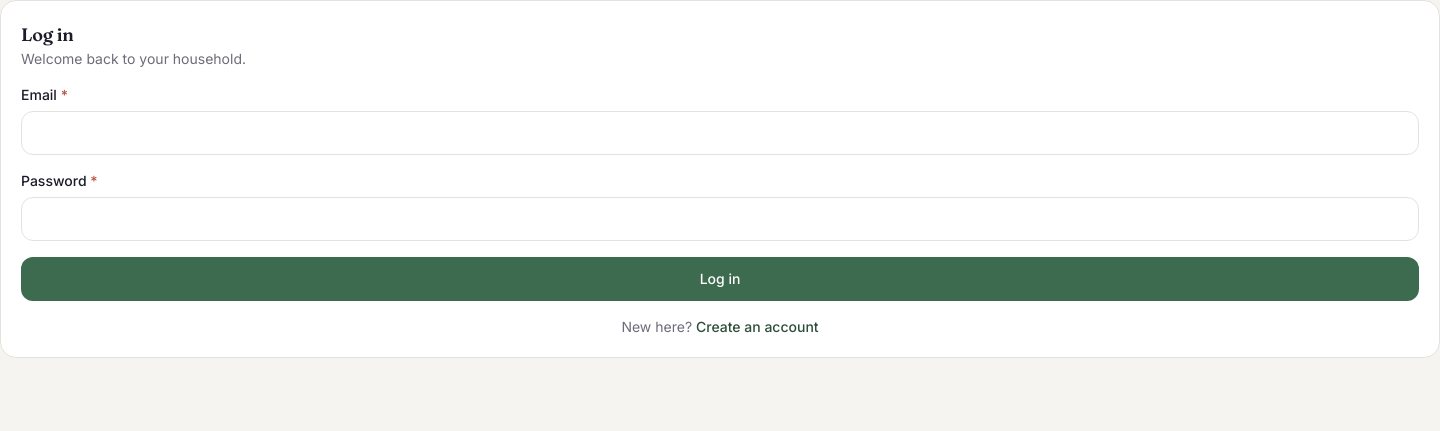
Test case: LoginPage › displays API error message when login fails
Type "test@example.com" into the field labelled "Email *" at (720, 133), box [21,111,1419,155]
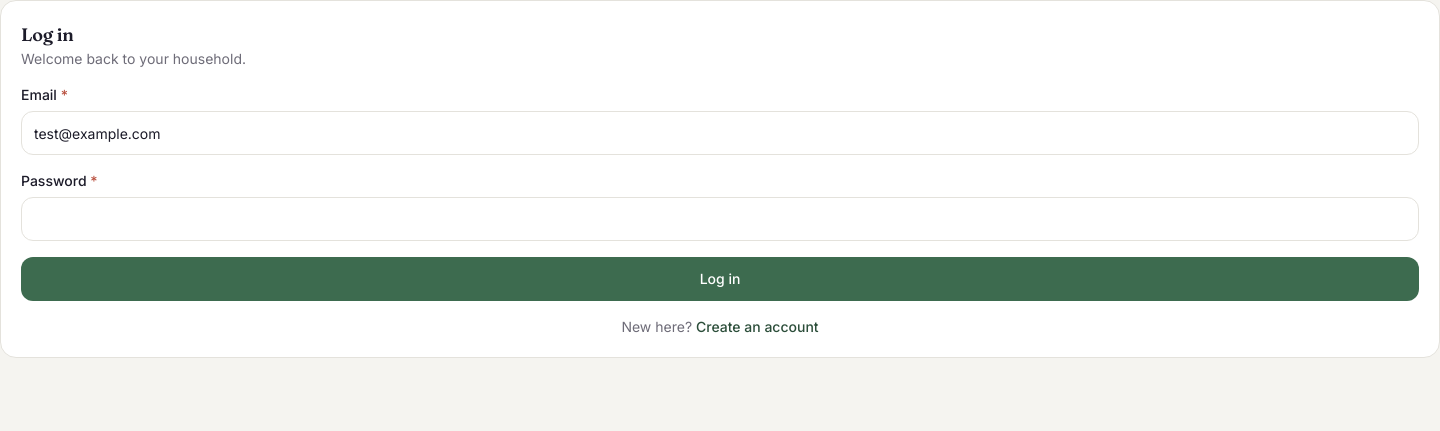
Type "wrongpassword" into the password field labelled "Password *" at (720, 219), box [21,197,1419,241]
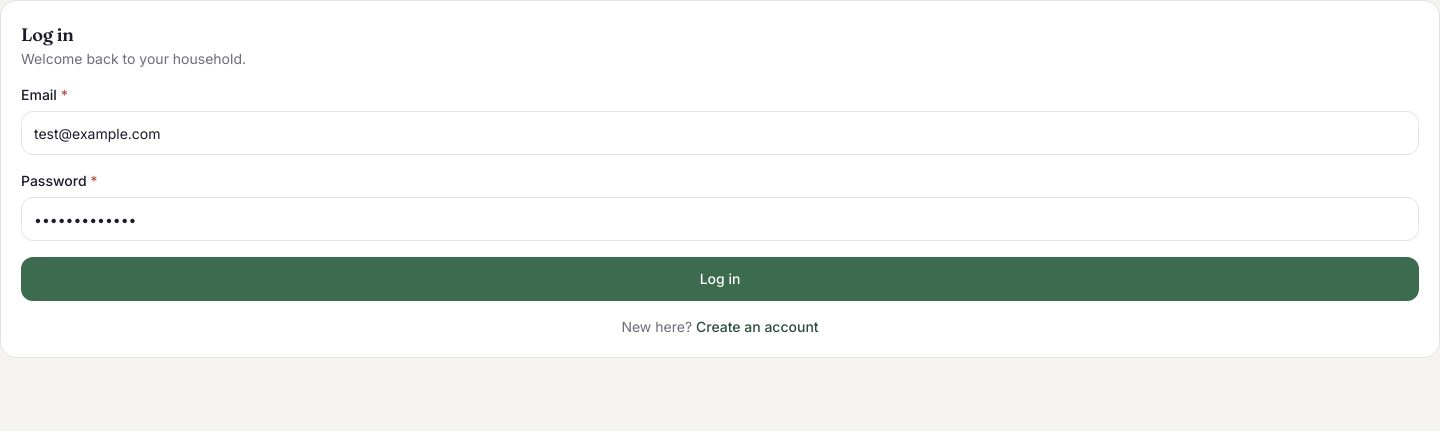
Click the button "Log in" at (720, 279), box [21,257,1419,301]
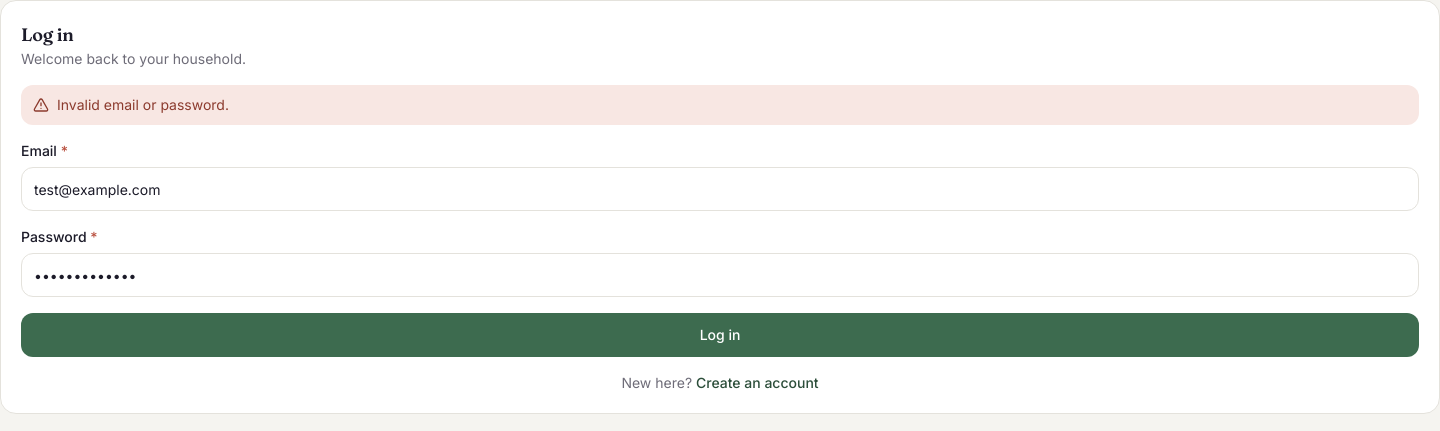
Expected: the text "Invalid email or password." is shown, [57,95,229,115]
